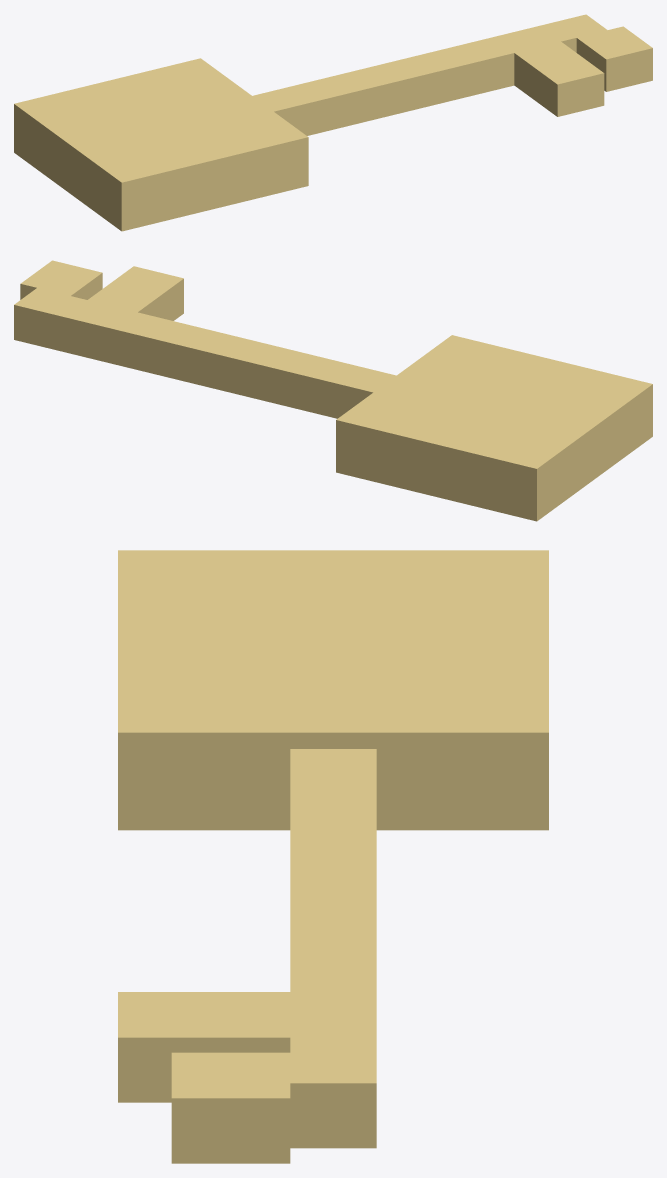
The model's file is Key.glb.
3 views of the same model, one above another, from view 1: azimuth 30°, elevation 25°; view 2: azimuth 150°, elevation 25°; view 3: azimuth 270°, elevation 25° (orthographic). The views are drawn at different scales.
Parts seen in each view (by area): view 1: Key; view 2: Key; view 3: Key.
Boxes of the visible parts, <box> form: Key: <box>14,14,652,231</box>; Key: <box>14,260,652,521</box>; Key: <box>118,550,548,1163</box>.
Bounding box in the file's own units: 0.35 × 0.03 × 0.12.
